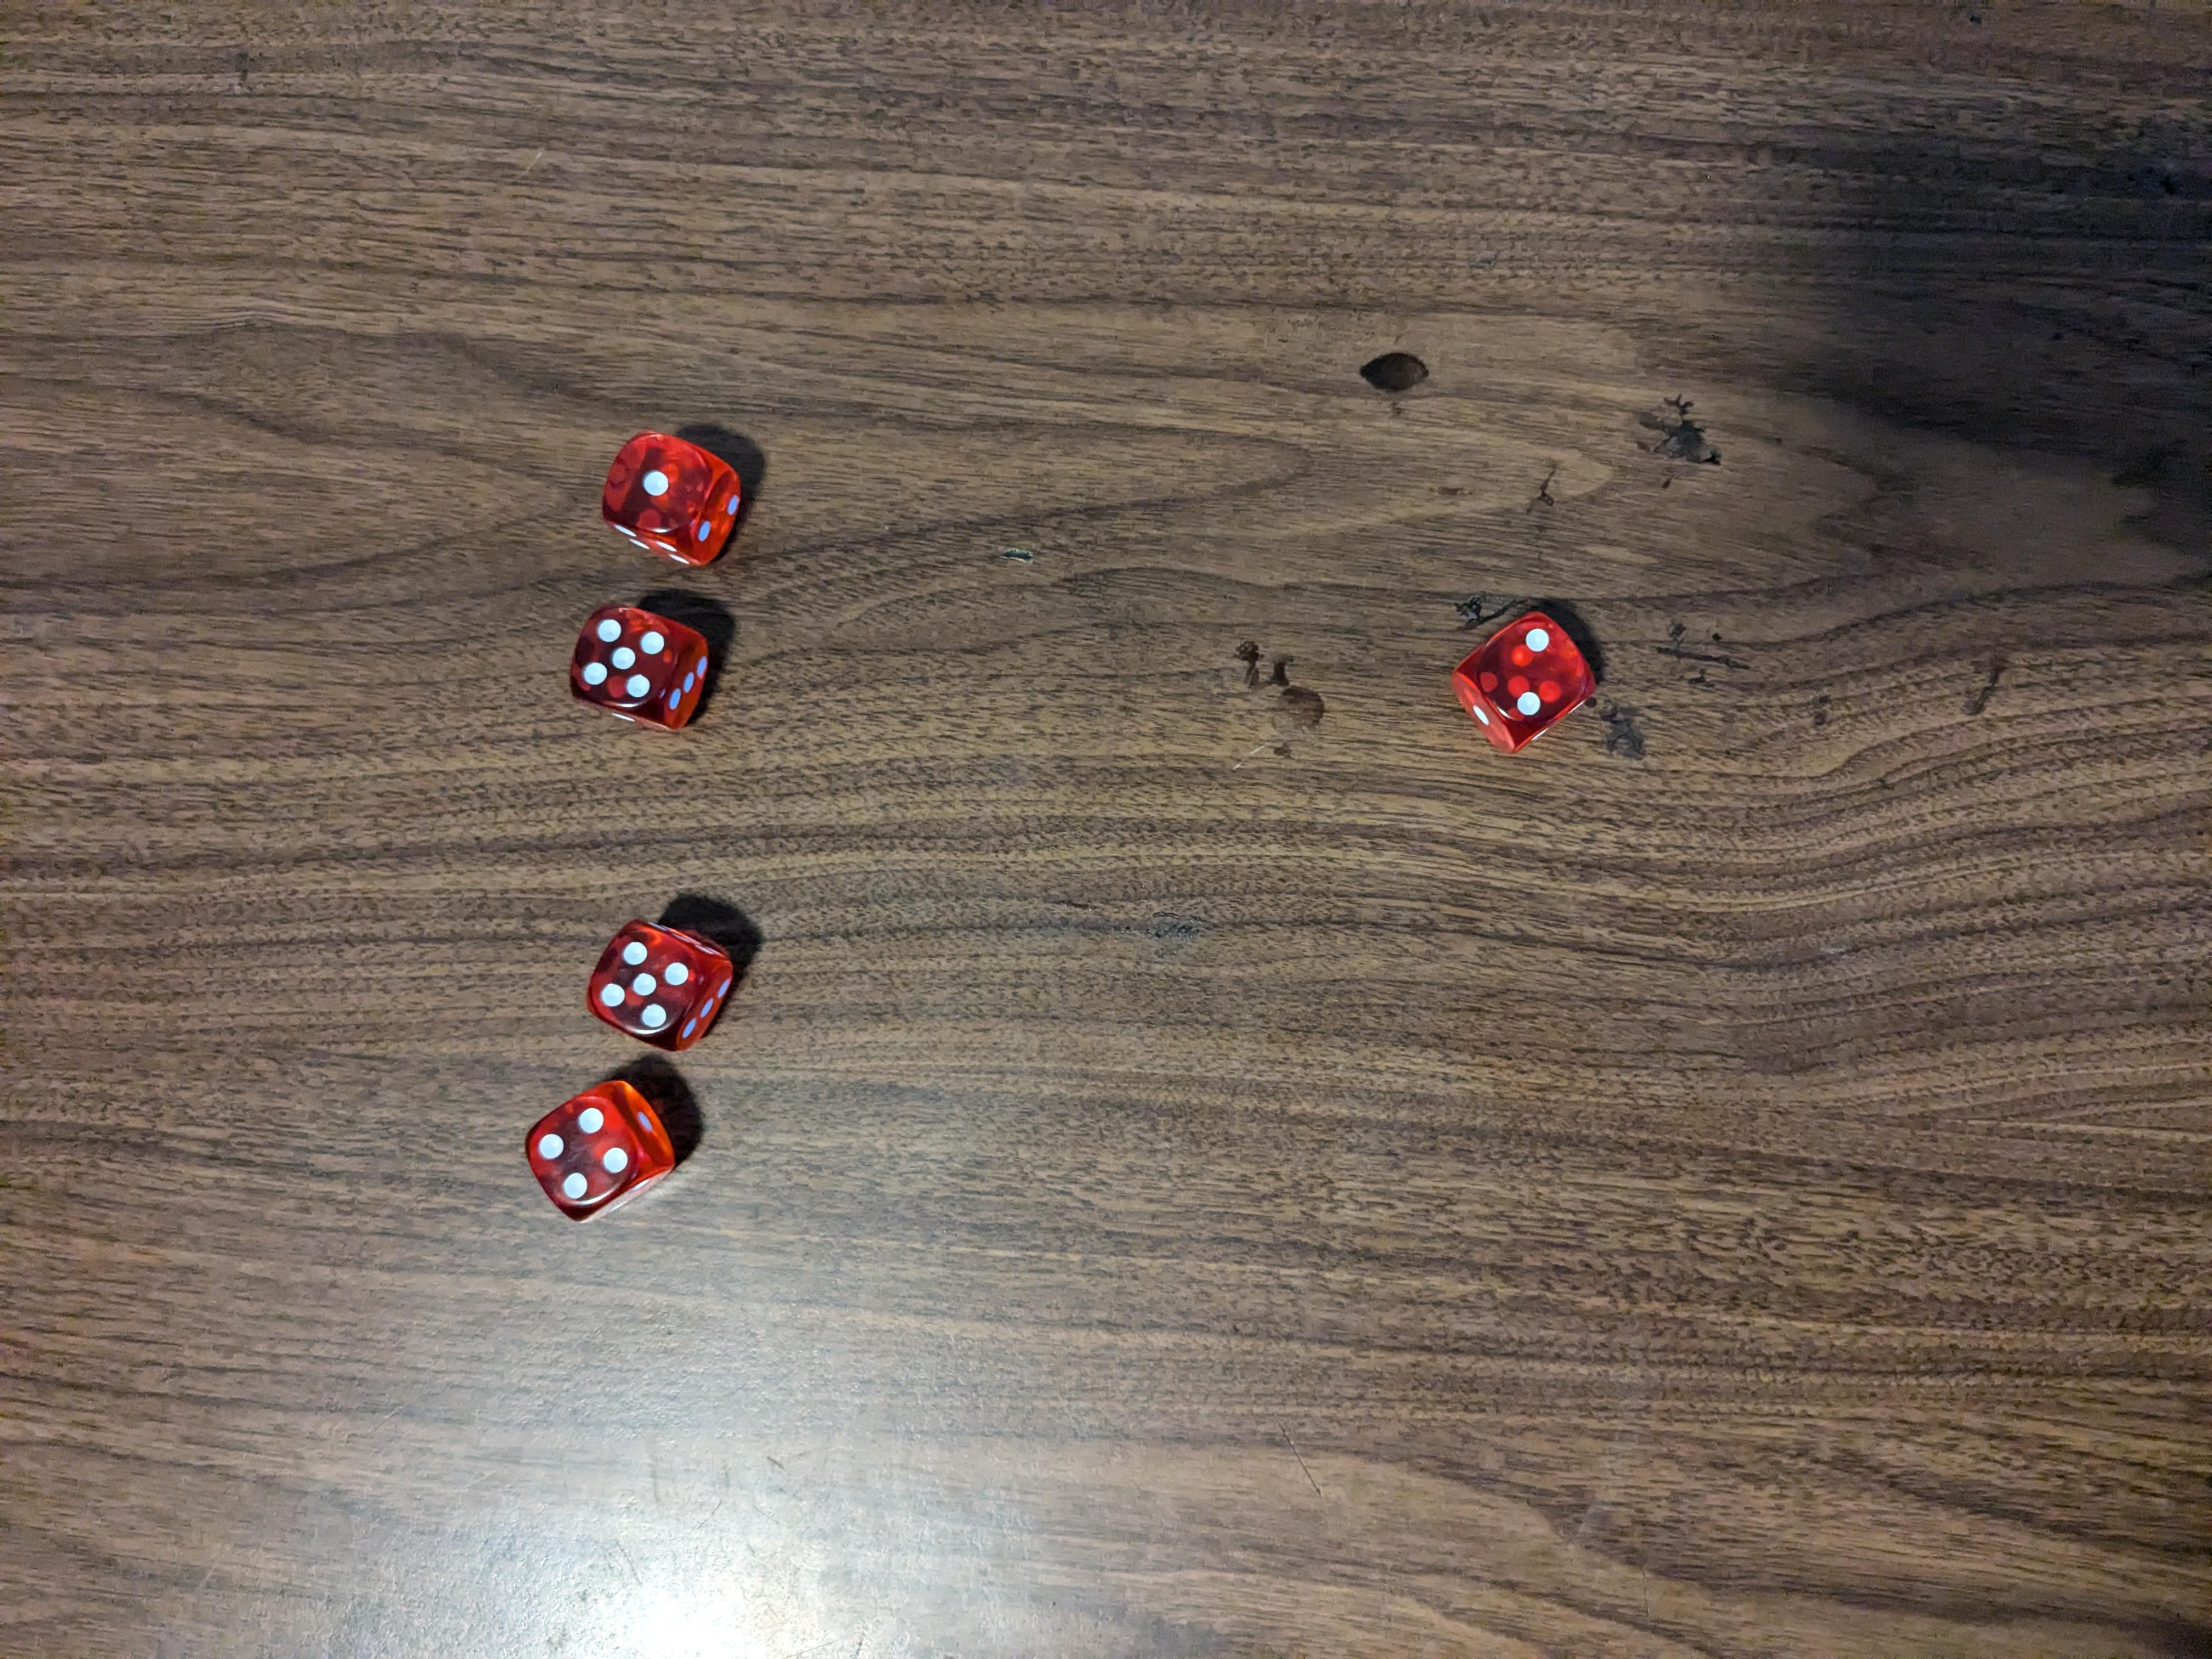five: (559, 601, 719, 734), (583, 922, 735, 1049)
four: (526, 1079, 676, 1227)
one: (603, 427, 744, 565)
two: (1447, 608, 1604, 751)
